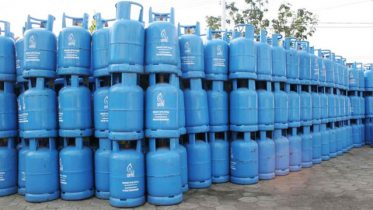blue_gas: (109, 1, 146, 75), (16, 15, 57, 81), (18, 138, 59, 203), (109, 139, 145, 210), (146, 137, 182, 206), (18, 80, 58, 139), (110, 73, 145, 140), (145, 75, 181, 140), (56, 11, 91, 77), (146, 6, 178, 75), (59, 137, 94, 200), (58, 76, 92, 137), (92, 11, 118, 77), (228, 23, 258, 80), (177, 22, 205, 80), (231, 131, 260, 187), (181, 78, 209, 135), (94, 77, 120, 138), (230, 79, 259, 133), (185, 134, 211, 190), (94, 139, 115, 200), (205, 29, 228, 81), (206, 79, 228, 133), (210, 132, 230, 184), (256, 82, 275, 131), (1, 20, 16, 82), (256, 29, 273, 83), (258, 128, 275, 181), (292, 126, 312, 171), (1, 83, 17, 139), (346, 61, 373, 93), (1, 141, 16, 198), (274, 128, 291, 178), (273, 34, 288, 85), (311, 84, 329, 124), (311, 123, 329, 163), (327, 49, 345, 87), (311, 47, 326, 87), (276, 84, 289, 130), (329, 86, 345, 123), (288, 38, 300, 86), (330, 122, 345, 158), (300, 40, 311, 85), (302, 84, 313, 129), (357, 118, 373, 148), (290, 86, 301, 127), (345, 90, 359, 120), (359, 90, 373, 119), (345, 120, 356, 151)
